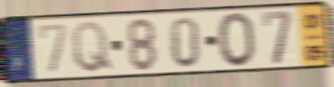0: (168, 15, 203, 69)
7: (260, 9, 294, 68), (35, 22, 69, 76)
8: (125, 17, 159, 72)
O: (216, 10, 258, 70)
Q: (70, 20, 115, 75)
